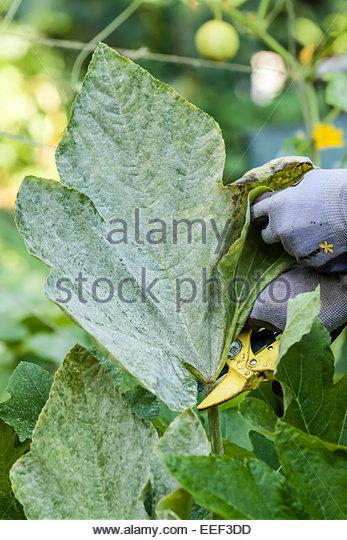Squash Powdery mildew leaf: (16, 29, 321, 409)
